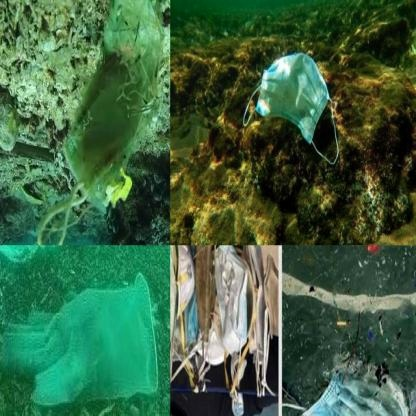Mask: (36, 0, 166, 244), (290, 314, 416, 416), (238, 55, 340, 165)
glove: (1, 266, 159, 408)
